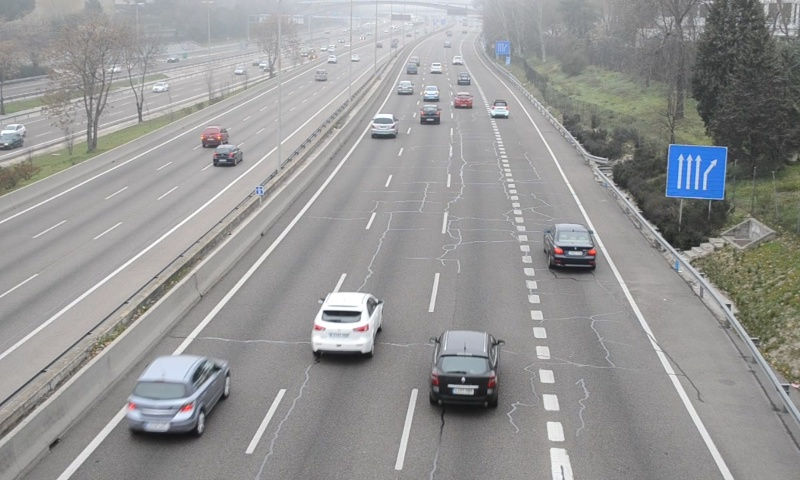car: (124, 356, 230, 437), (427, 329, 498, 408), (312, 292, 383, 357), (544, 223, 598, 274), (370, 114, 398, 138), (420, 103, 441, 125), (490, 98, 510, 118), (454, 92, 473, 109), (423, 85, 440, 102), (396, 80, 414, 96)
